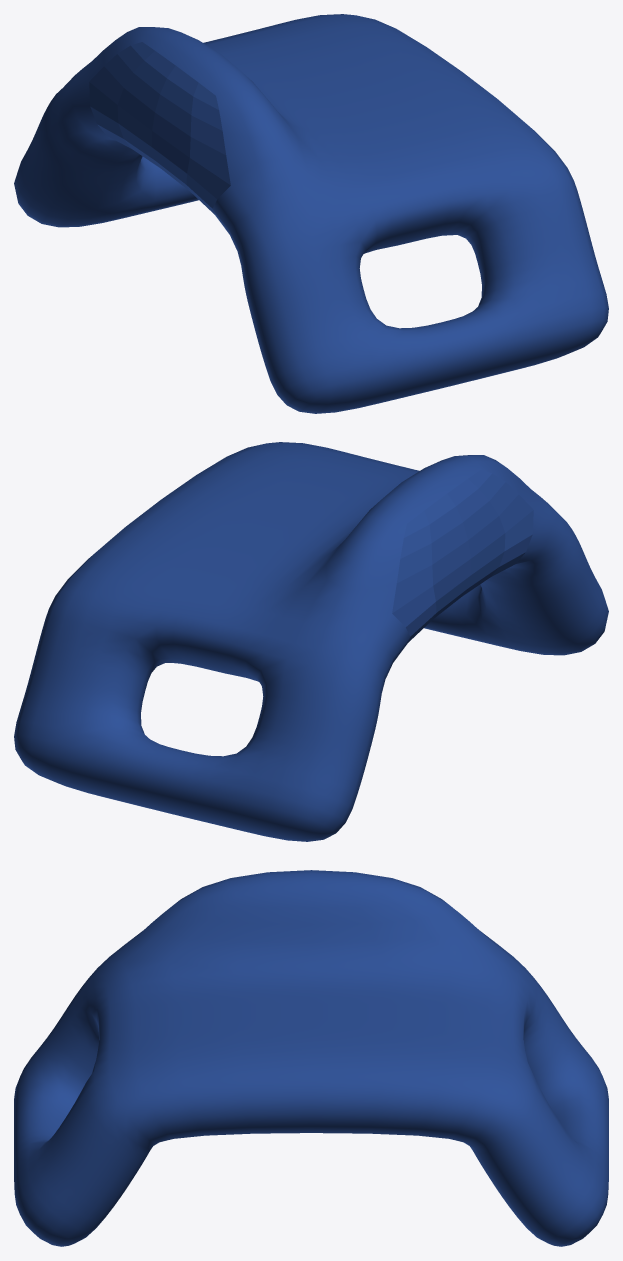
File: SlimeArtifact.fbx
The picture shows the model from 3 angles, top to bottom: view 1: azimuth 30°, elevation 25°; view 2: azimuth 150°, elevation 25°; view 3: azimuth 270°, elevation 25°; orthographic projection. The views are drawn at different scales.
Parts seen in each view (by area): view 1: Plane; view 2: Plane; view 3: Plane.
Boxes of the visible parts, left/top/right/bottom form: Plane: left=14, top=14, right=608, bottom=413; Plane: left=14, top=442, right=608, bottom=841; Plane: left=14, top=870, right=608, bottom=1246.
Bounding box in the file's own units: 194 × 152 × 312.
